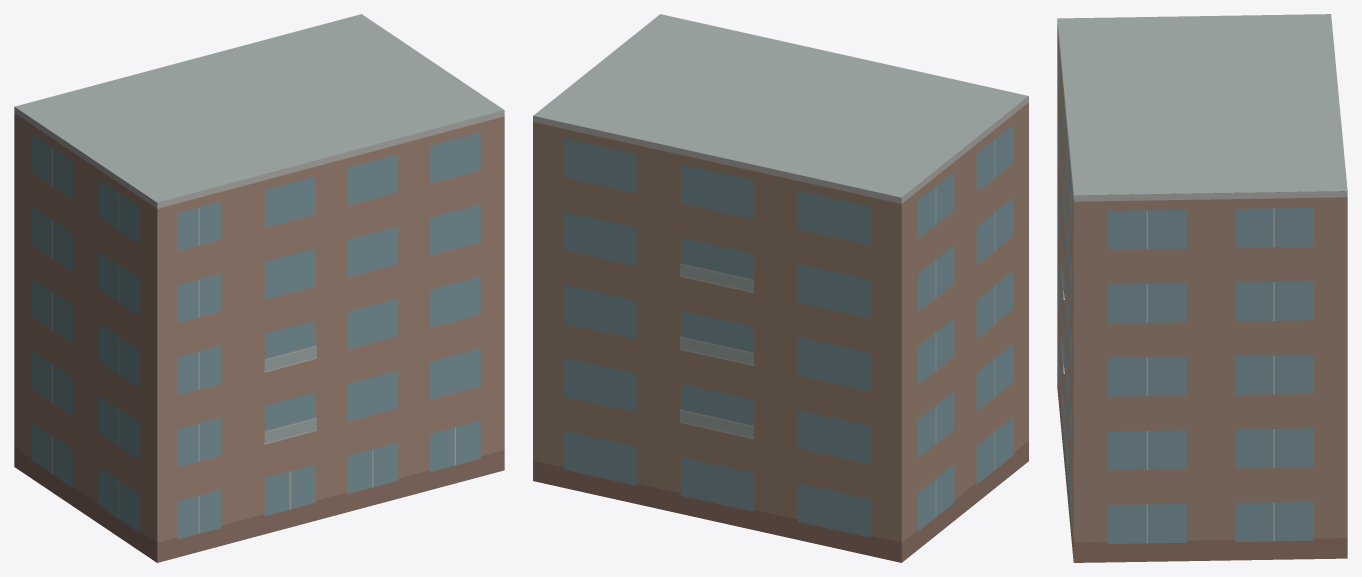
The model's file is survey-upis-32544215.glb.
3 renders of one model, left to right at view 1: azimuth 30°, elevation 25°; view 2: azimuth 150°, elevation 25°; view 3: azimuth 270°, elevation 25°, orthographic. The views are drawn at different scales.
Parts seen in each view (by area): view 1: survey-upis-32544215.tmp; view 2: survey-upis-32544215.tmp; view 3: survey-upis-32544215.tmp.
Part boxes in pixels (left/top/right/bottom): survey-upis-32544215.tmp: left=14, top=14, right=504, bottom=562; survey-upis-32544215.tmp: left=533, top=14, right=1028, bottom=562; survey-upis-32544215.tmp: left=1057, top=14, right=1347, bottom=562.
Bounding box in the file's own units: 15.03 × 14.2 × 10.18.
